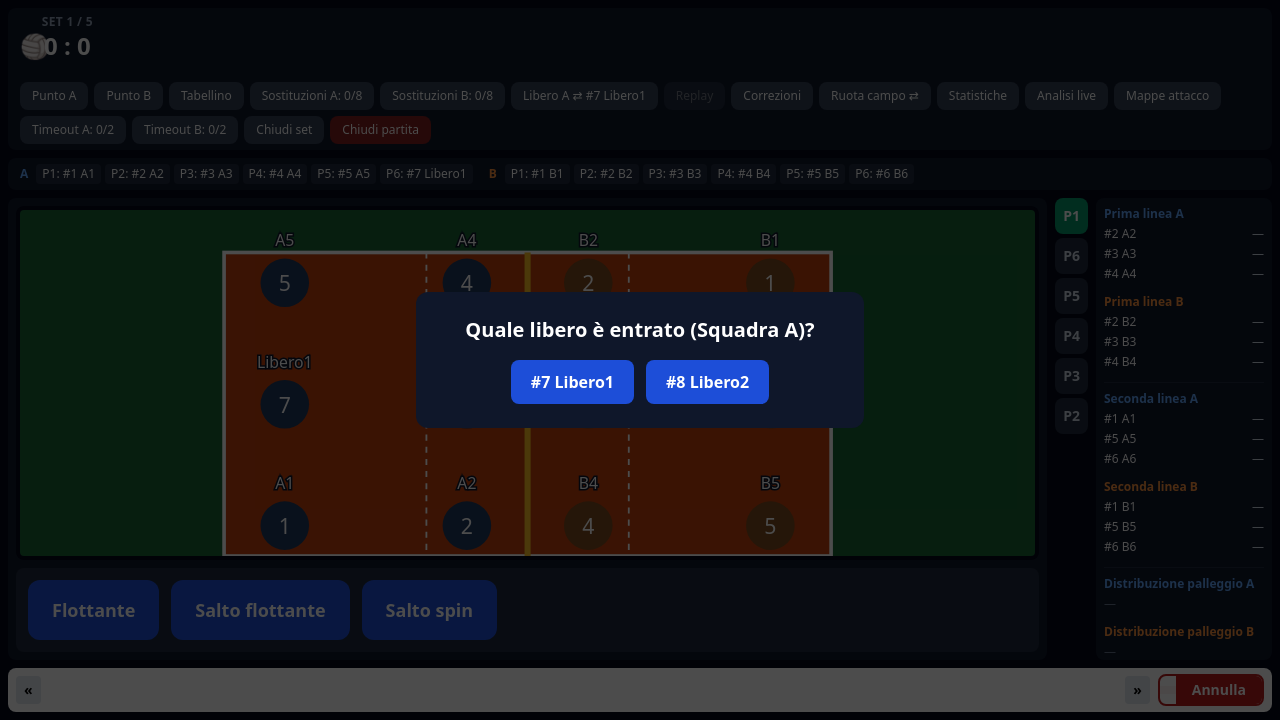
Test: LiveScoutingScreen › con 2 liberi in rosa chiede quale e entrato quando scatta il cambio automatico, poi permette di scambiarli
Expected: the element with test id "modal-scelta-libero" shows "Squadra A", x1=697 y1=316 x2=798 y2=343
What coordinates should you click on to do the following:
click the button "#7 Libero1"
I would click on:
 (572, 382)
Its box is x1=511 y1=360 x2=634 y2=404.
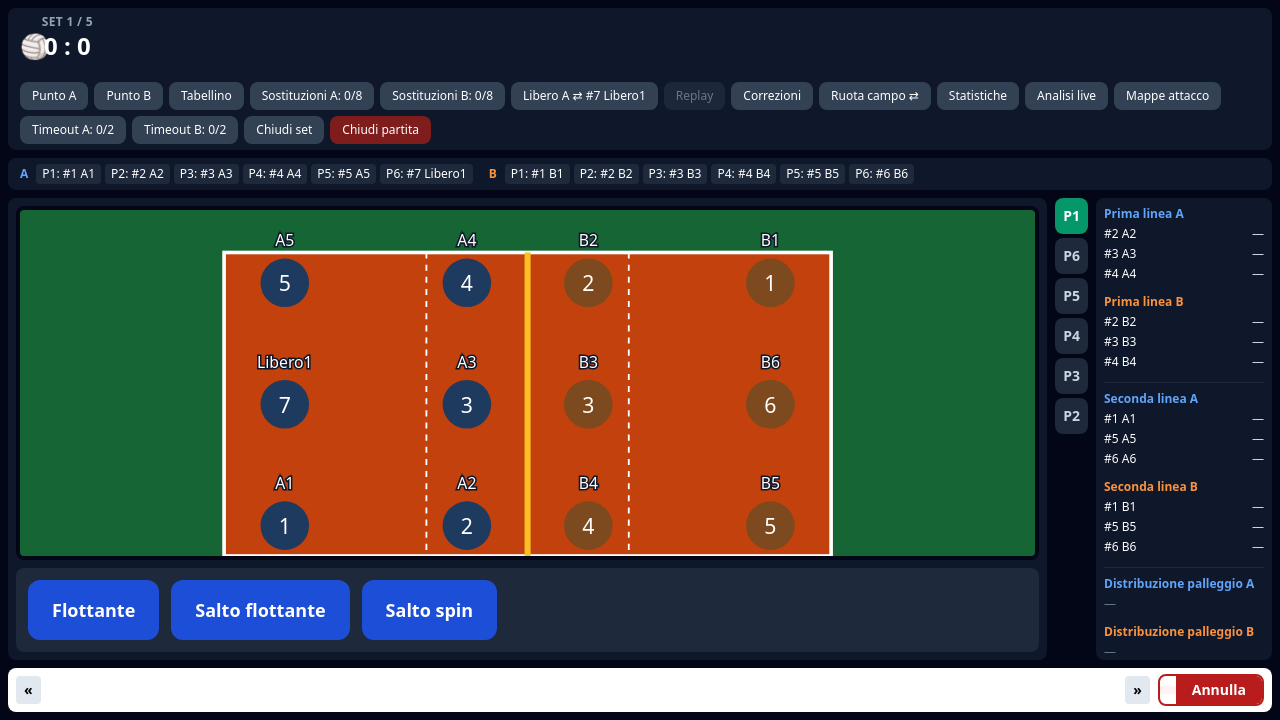
Expected: the element with test id "rotazione-a" shows "P6: #7 Libero1", x1=20 y1=164 x2=473 y2=184
Expected: the element with test id "modal-scelta-libero" is gone
What coordinates should you click on to do the following:
click the button with test id "scambia-libero-a"
I would click on:
 (584, 96)
Its box is x1=511 y1=82 x2=658 y2=110.
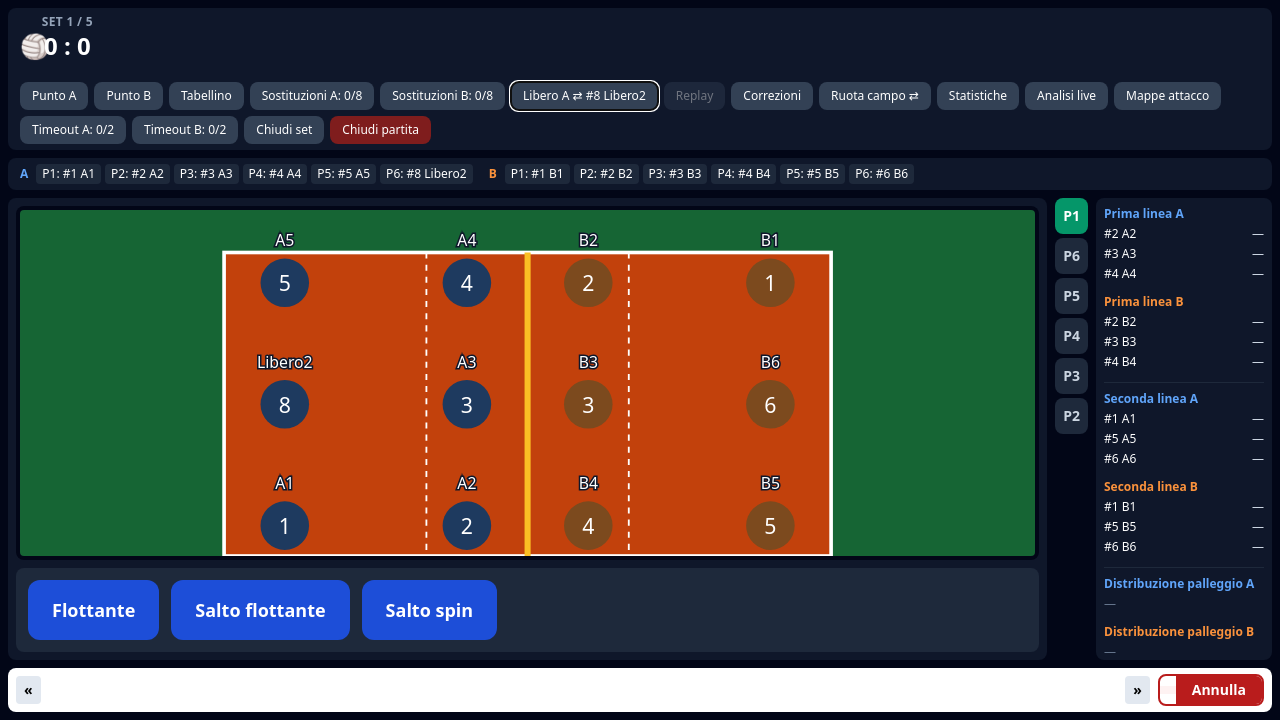
Expected: the button with test id "sostituzioni-a" reads "Sostituzioni A: 0/8", x1=250 y1=82 x2=374 y2=110
What coordinates should you click on to do the following:
click the button with test id "scambia-libero-a"
I would click on:
 (584, 96)
Its box is x1=511 y1=82 x2=658 y2=110.
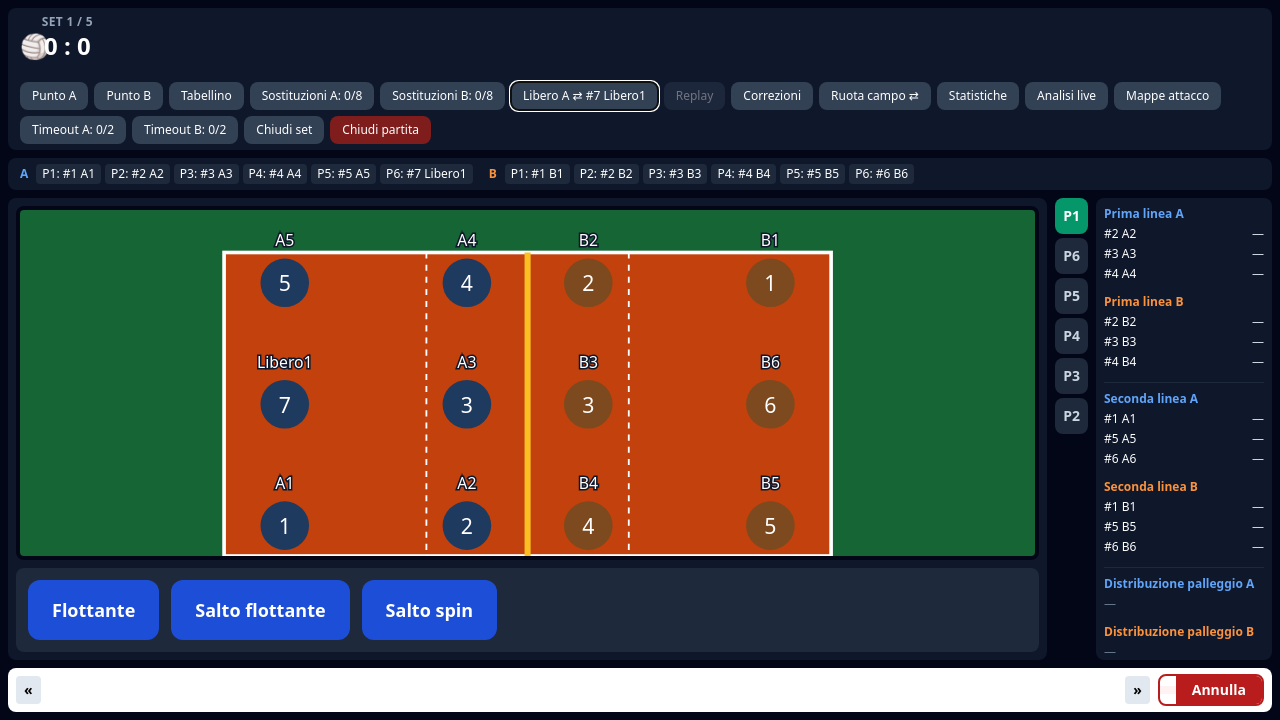
Expected: the element with test id "rotazione-a" shows "P6: #7 Libero1", x1=20 y1=164 x2=473 y2=184
